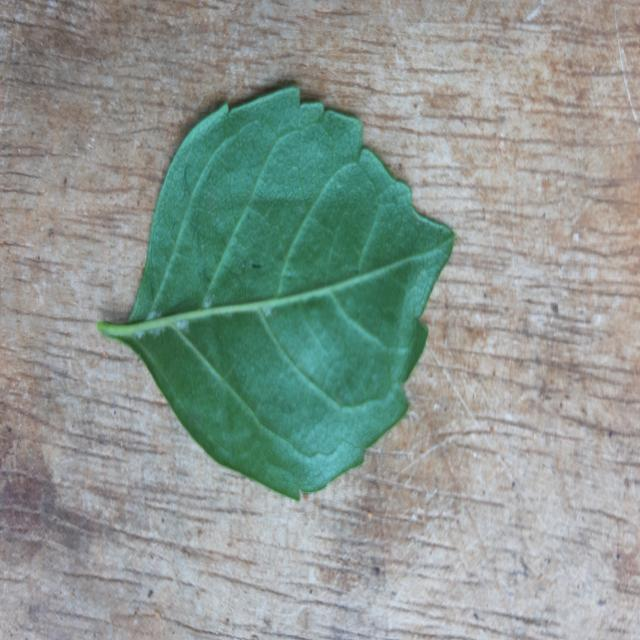tecoma: (99, 87, 455, 500)
